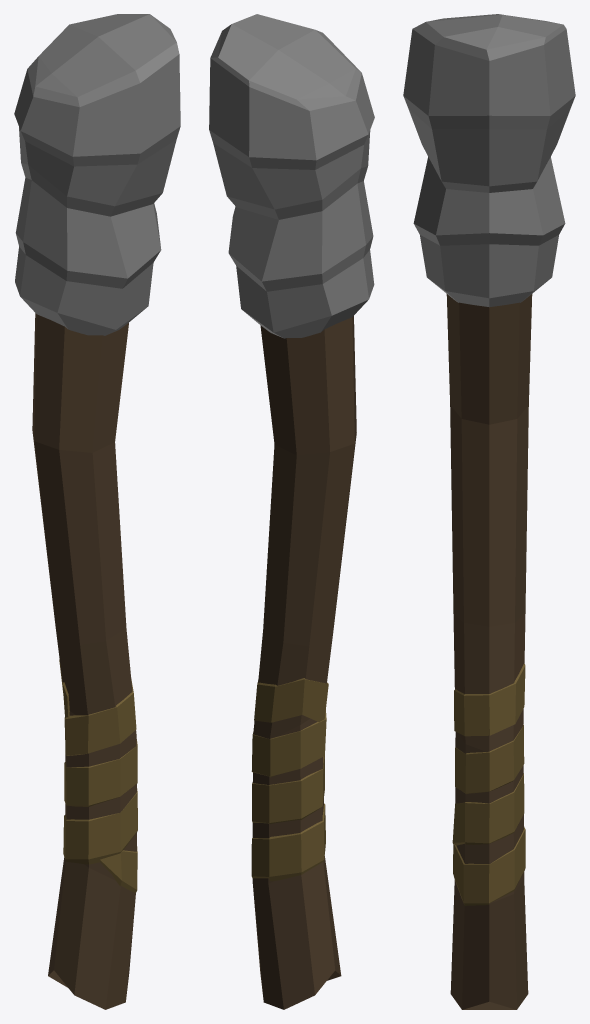
Rendered from Torch.glb.
The picture shows the model from 3 angles, left to right: view 1: azimuth 30°, elevation 25°; view 2: azimuth 150°, elevation 25°; view 3: azimuth 270°, elevation 25°; orthographic projection. The views are drawn at different scales.
Visible parts, largest first — view 1: WoodenTorch; view 2: WoodenTorch; view 3: WoodenTorch.
Part boxes in pixels (x1,y1,x2,y2): WoodenTorch: [14, 14, 180, 1009]; WoodenTorch: [209, 14, 374, 1009]; WoodenTorch: [403, 14, 575, 1009].
Bounding box in the file's own units: 0.2863 × 1.69 × 0.2623.
